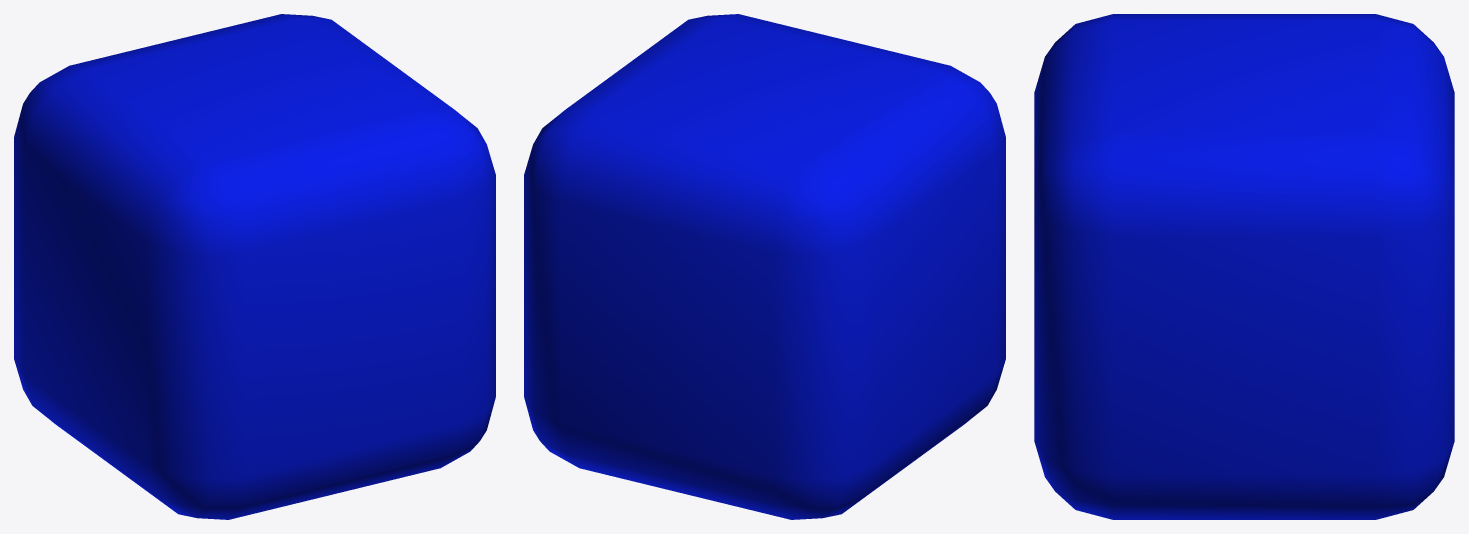
File: hum_sensor.glb
3 renders of one model, left to right at view 1: azimuth 30°, elevation 25°; view 2: azimuth 150°, elevation 25°; view 3: azimuth 270°, elevation 25°, orthographic. The views are drawn at different scales.
Parts seen in each view (by area): view 1: hum_sensor; view 2: hum_sensor; view 3: hum_sensor.
Part boxes in pixels (bbox=[...]): hum_sensor: bbox=[14, 14, 495, 519]; hum_sensor: bbox=[524, 14, 1005, 519]; hum_sensor: bbox=[1034, 14, 1454, 519].
Bounding box in the file's own units: 0.0774 × 0.0774 × 0.0774.
